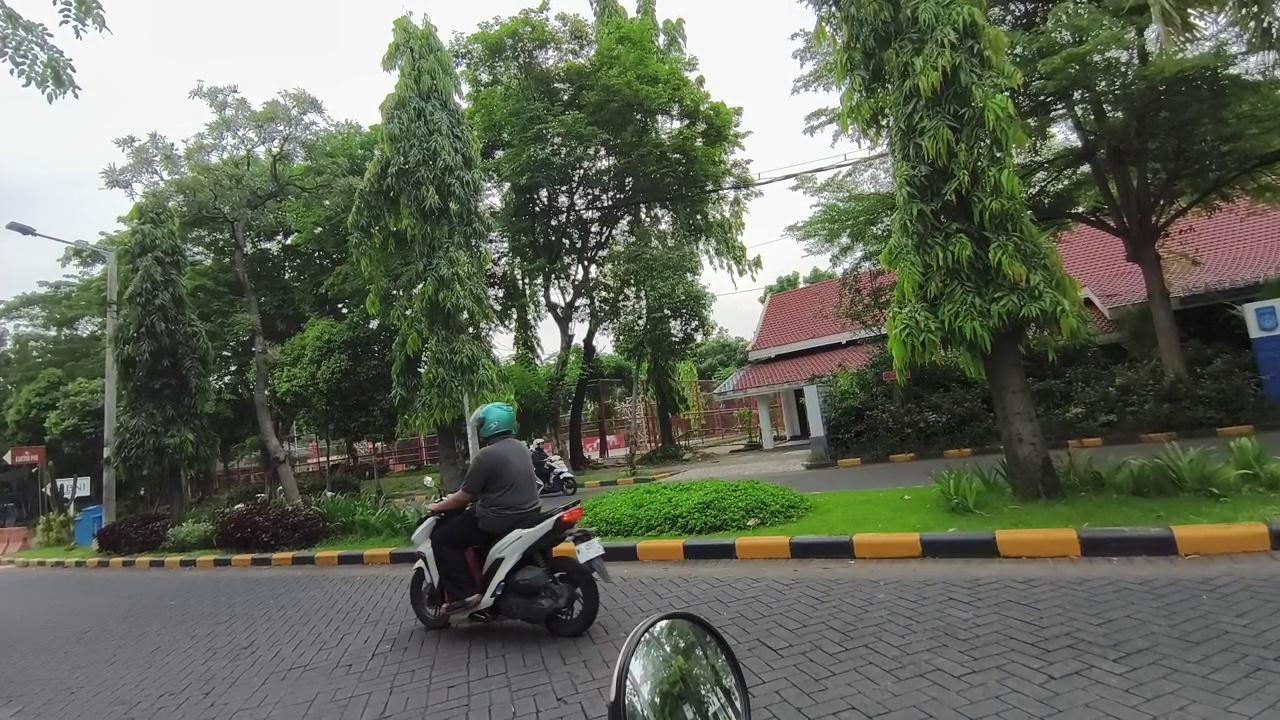Helmet: (428, 403, 540, 612)
Motor: (454, 501, 609, 636), (532, 447, 576, 495)
